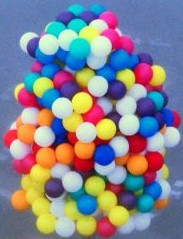Balloon: (87, 75, 108, 97), (94, 144, 115, 166), (62, 171, 84, 192), (52, 97, 73, 118), (127, 154, 148, 175), (34, 126, 55, 147), (55, 216, 76, 237), (76, 216, 97, 237), (139, 115, 159, 137), (90, 36, 111, 56), (72, 93, 93, 113), (76, 122, 96, 143), (35, 147, 55, 168), (109, 205, 129, 226), (119, 114, 138, 136), (55, 142, 74, 164), (84, 176, 106, 195), (95, 119, 115, 139), (40, 34, 59, 55), (10, 139, 31, 158), (78, 194, 97, 215), (36, 212, 55, 233), (110, 49, 129, 69), (145, 152, 164, 172), (45, 178, 64, 198), (135, 63, 153, 84), (163, 126, 181, 147), (69, 38, 88, 57), (20, 106, 39, 125), (107, 165, 126, 184), (107, 80, 125, 99), (98, 190, 116, 209), (117, 97, 137, 114), (98, 216, 115, 236), (17, 125, 35, 143), (31, 164, 49, 182), (119, 191, 137, 209), (144, 181, 162, 199), (137, 194, 154, 213), (137, 98, 154, 116), (12, 189, 28, 208), (31, 198, 48, 214), (50, 201, 67, 216), (61, 82, 78, 96)
